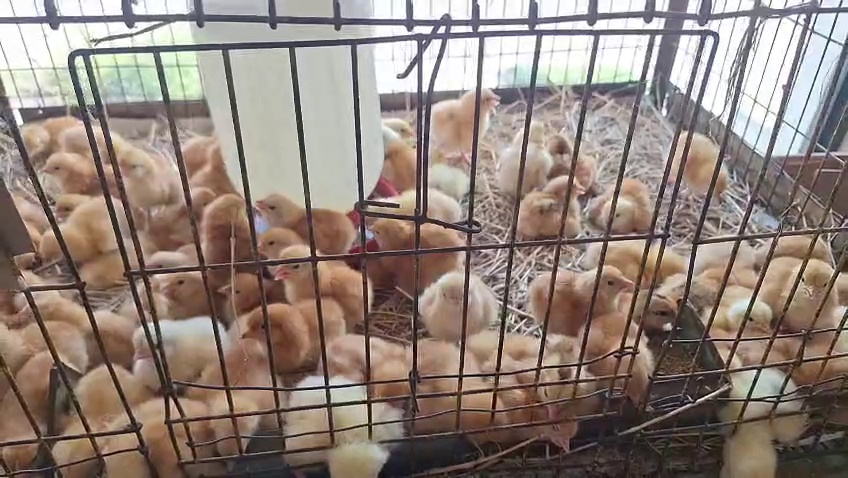Pollo: (396, 335, 515, 459), (695, 357, 815, 478), (170, 368, 290, 478), (286, 371, 406, 478), (50, 363, 152, 478), (0, 341, 79, 478), (95, 396, 220, 478), (236, 298, 356, 374), (360, 210, 480, 286), (112, 310, 232, 386), (264, 269, 383, 345), (201, 245, 321, 320), (270, 247, 390, 322), (250, 179, 370, 254), (519, 256, 639, 331), (394, 266, 513, 341), (20, 286, 139, 361), (578, 315, 661, 409), (33, 190, 131, 266), (422, 82, 511, 163), (757, 256, 848, 332), (658, 129, 746, 204), (511, 172, 598, 247), (133, 184, 233, 249), (527, 127, 611, 203), (621, 269, 700, 345), (361, 175, 481, 225), (512, 403, 612, 460), (512, 330, 587, 406), (706, 283, 787, 350), (135, 257, 226, 316), (588, 164, 660, 236), (194, 190, 258, 266), (111, 142, 174, 218), (35, 145, 118, 198), (496, 114, 553, 189), (122, 239, 223, 281), (241, 216, 313, 264), (162, 124, 227, 177), (14, 113, 88, 156), (56, 124, 124, 163), (196, 144, 237, 197), (36, 184, 93, 222), (384, 97, 426, 145)
